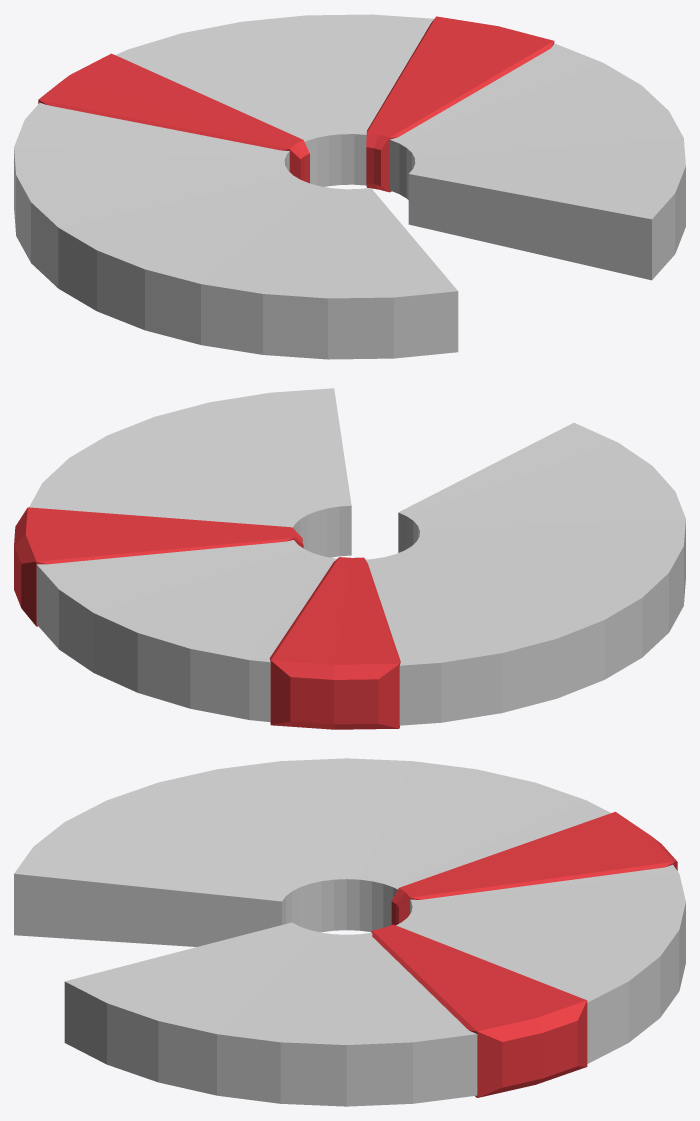
Rendered from platform_singlegap2.glb.
The picture shows the model from 3 angles, top to bottom: view 1: azimuth 30°, elevation 25°; view 2: azimuth 150°, elevation 25°; view 3: azimuth 270°, elevation 25°; orthographic projection. The views are drawn at different scales.
Visible parts, largest first — view 1: Platform_SingleGap2, Danger.017, Danger.006; view 2: Platform_SingleGap2, Danger.006, Danger.017; view 3: Platform_SingleGap2, Danger.017, Danger.006.
Part boxes in pixels (<box>): Platform_SingleGap2: <box>14,14,685,359</box>; Danger.017: <box>366,16,554,192</box>; Danger.006: <box>38,53,309,183</box>; Platform_SingleGap2: <box>29,388,685,725</box>; Danger.006: <box>269,557,400,729</box>; Danger.017: <box>14,507,303,626</box>; Platform_SingleGap2: <box>14,758,685,1106</box>; Danger.017: <box>371,924,587,1097</box>; Danger.006: <box>391,811,677,925</box>.
Size of the model in its own units: 2 by 0.2167 by 1.98.
